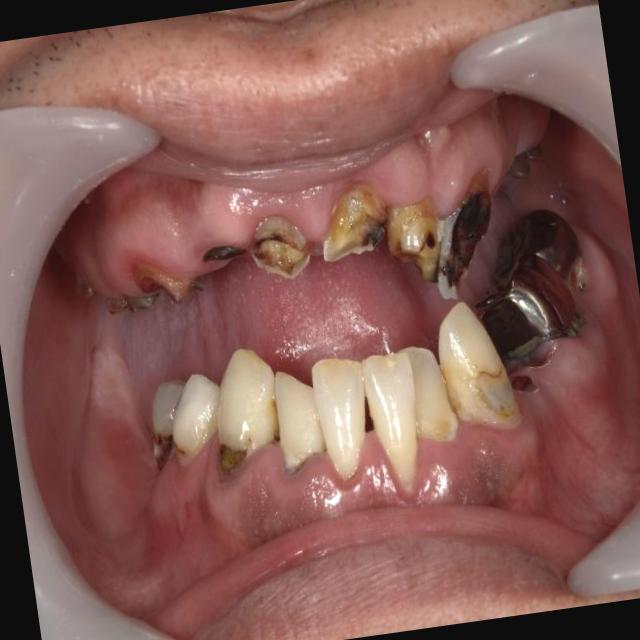caries: (424, 176, 509, 302), (379, 195, 444, 288), (314, 184, 389, 262), (245, 212, 314, 284), (134, 259, 188, 308), (200, 233, 248, 271)
